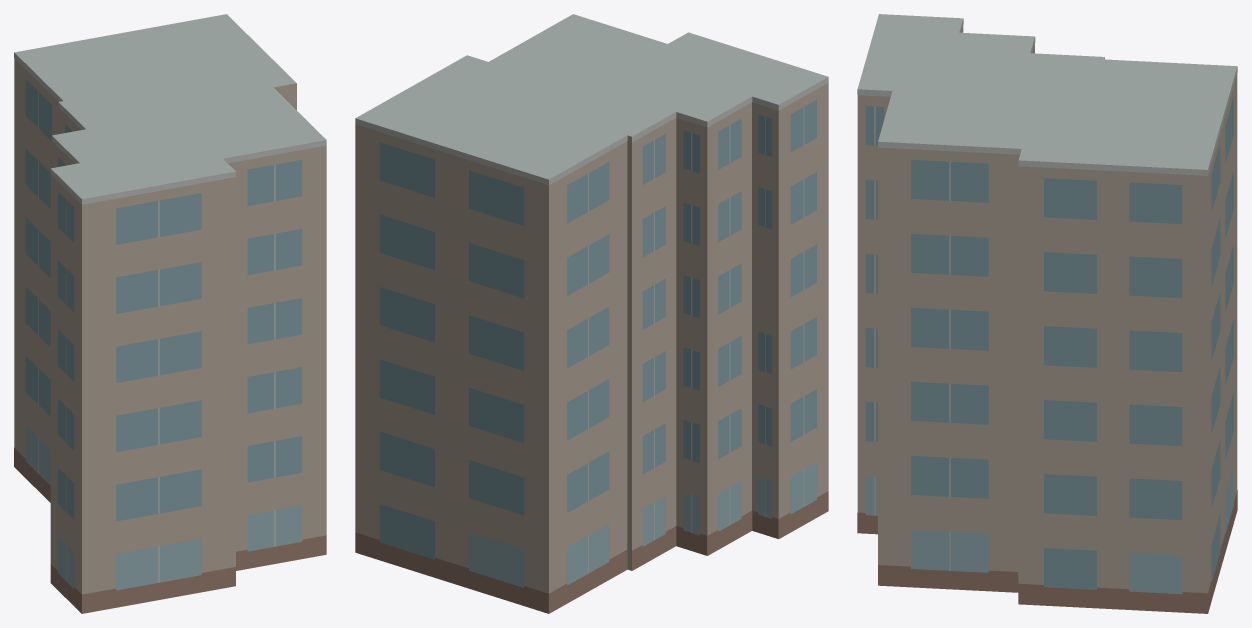
The model's file is survey-upis-32538516.glb.
3 views of the same model, side by side, from view 1: azimuth 30°, elevation 25°; view 2: azimuth 150°, elevation 25°; view 3: azimuth 270°, elevation 25° (orthographic). The views are drawn at different scales.
Visible parts, largest first — view 1: survey-upis-32538516.tmp; view 2: survey-upis-32538516.tmp; view 3: survey-upis-32538516.tmp.
Part boxes in pixels (x1,y1,x2,y2): survey-upis-32538516.tmp: (14,14,326,613); survey-upis-32538516.tmp: (355,14,828,613); survey-upis-32538516.tmp: (857,14,1237,613).
Bounding box in the file's own units: 13.79 × 18.3 × 14.21.
